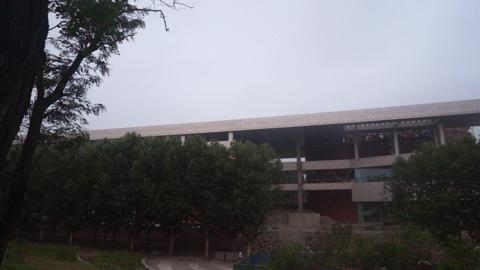UAV: (228, 156, 236, 161)
